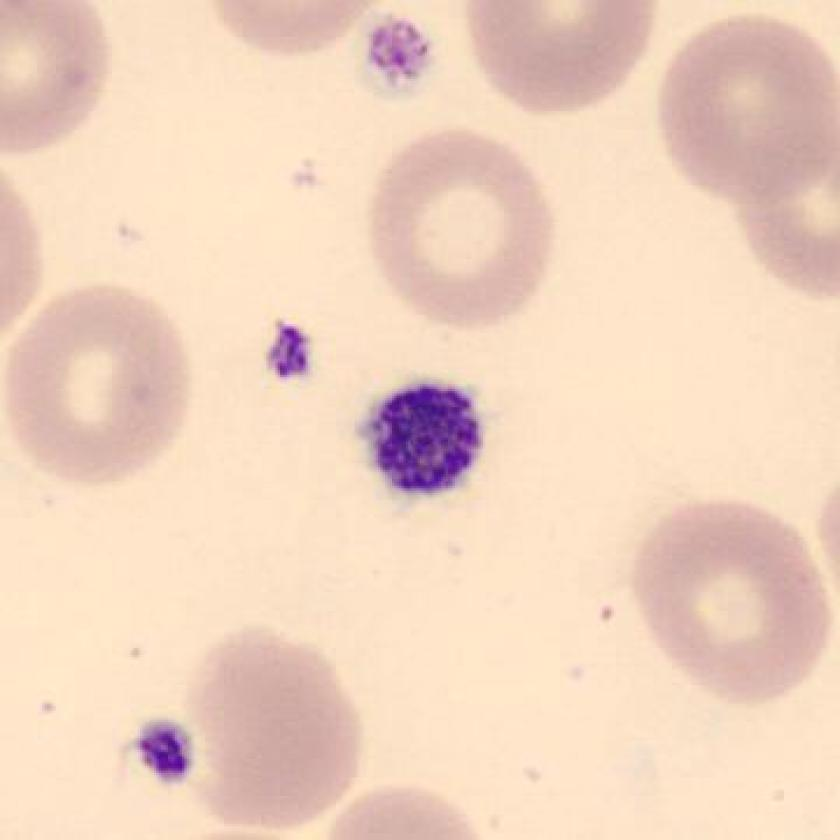platelets: (344, 372, 496, 513), (346, 1, 447, 98), (125, 707, 202, 797), (258, 316, 323, 383)
